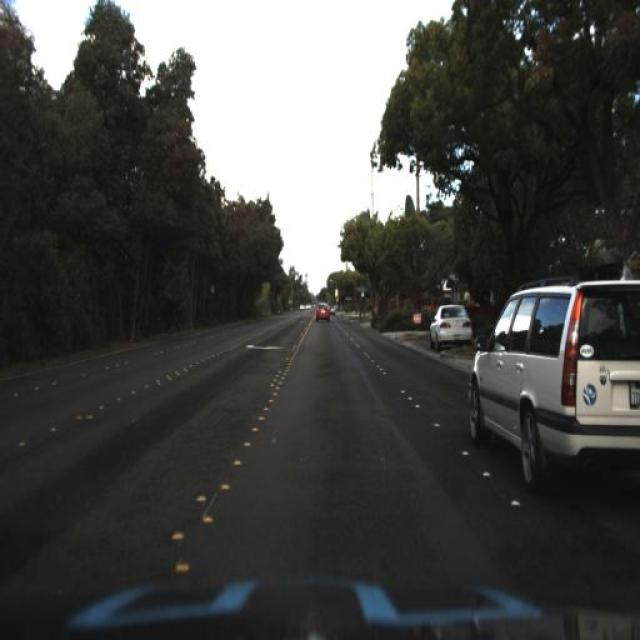car: (462, 262, 638, 510), (429, 300, 472, 350), (314, 296, 332, 328)
